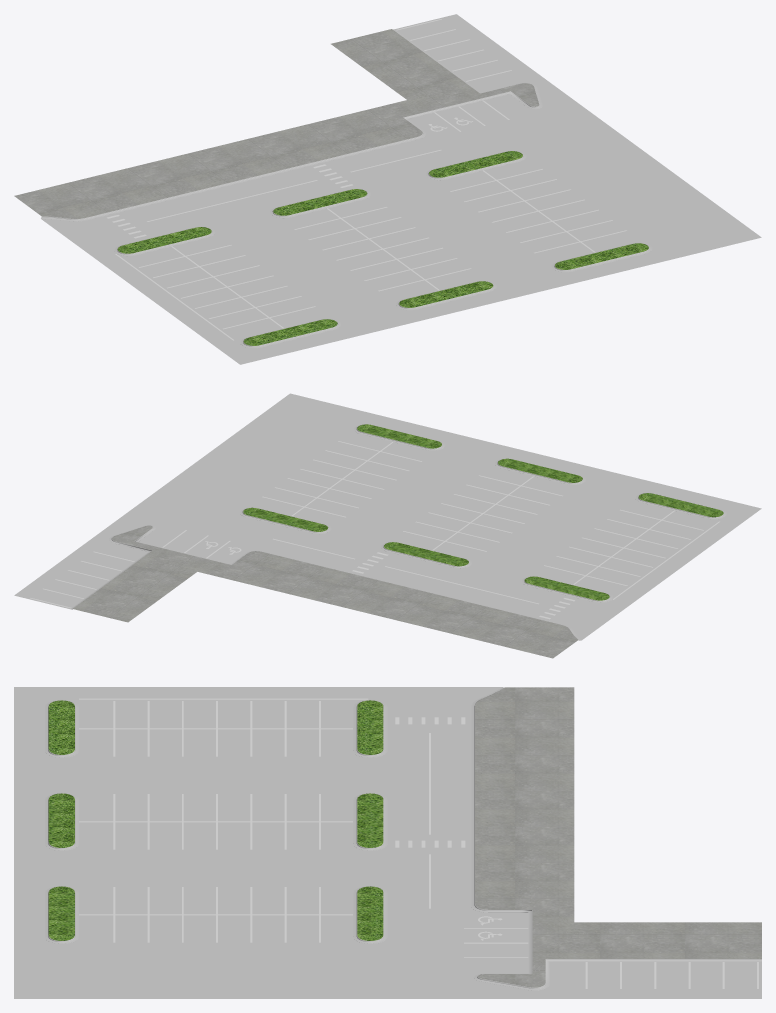
The model's file is Environment.fbx.
3 renders of one model, top to bottom at view 1: azimuth 30°, elevation 25°; view 2: azimuth 150°, elevation 25°; view 3: azimuth 270°, elevation 25°, orthographic. The views are drawn at different scales.
Parts seen in each view (by area): view 1: pavement, sidewalk, Line; view 2: pavement, sidewalk, Line; view 3: pavement, sidewalk, Line.
Boxes of the visible parts, x1,y1,x2,y2 form: pavement: [41, 14, 761, 364]; sidewalk: [14, 29, 652, 348]; Line: [107, 19, 626, 340]; pavement: [14, 393, 761, 640]; sidewalk: [70, 424, 726, 658]; Line: [30, 441, 719, 619]; pavement: [14, 687, 761, 998]; sidewalk: [44, 687, 761, 990]; Line: [79, 698, 758, 988].
Bounding box in the file's own units: 6270 × 11.23 × 6356.
